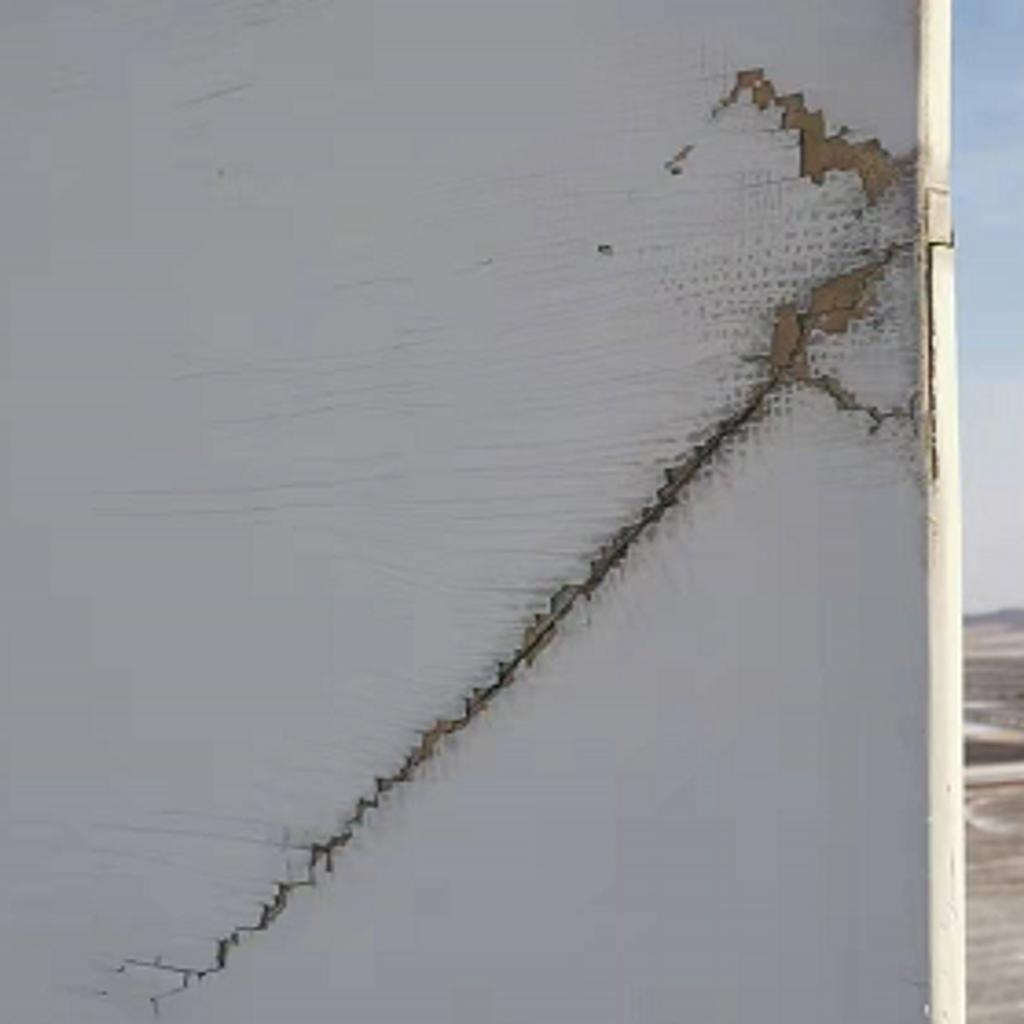hide_craze: (186, 381, 778, 986)
surface_injure: (723, 62, 903, 216), (775, 243, 916, 373)
